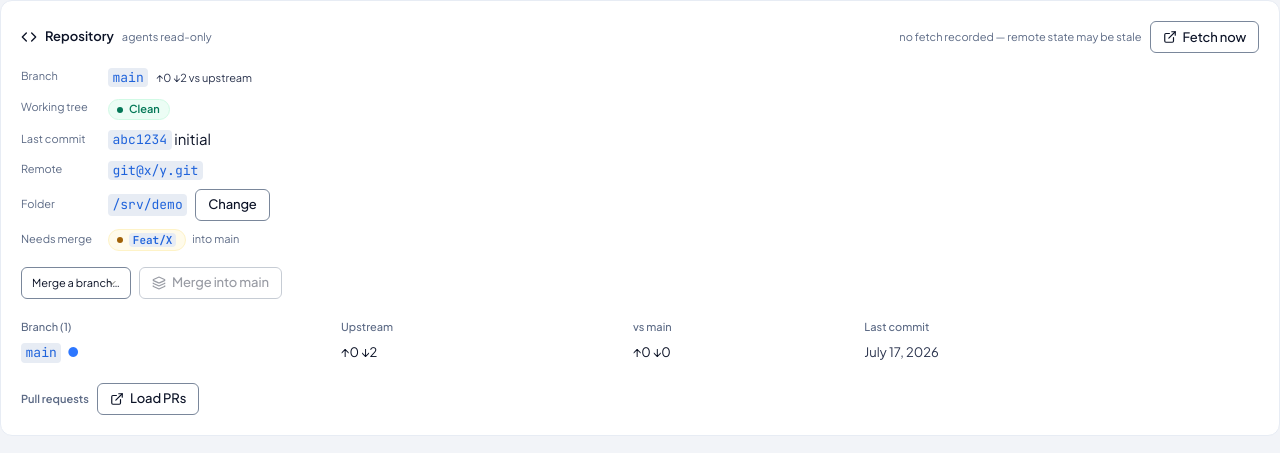
Test: GitSnapshotPanel — Phase 12d gated commit / merge › merges a trailing branch into the checked-out default
Select "feat/x" in the dropdown at (76, 283), box [21,267,131,299]
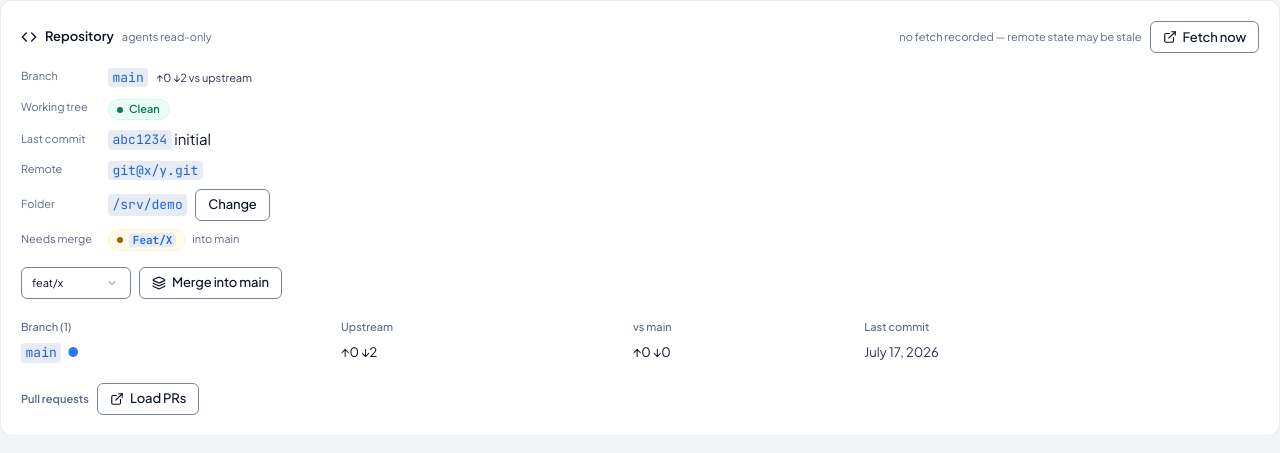
Click the button "Merge into main" at (210, 283), box [139,267,282,299]
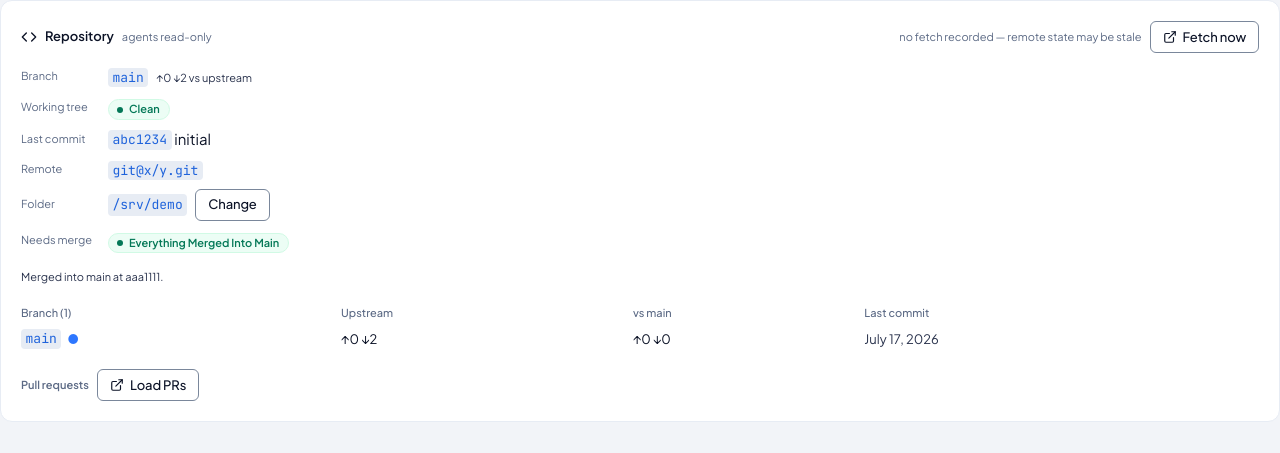
Check: the text "Merged into main at aaa1111." is shown, box [21,270,164,283]
